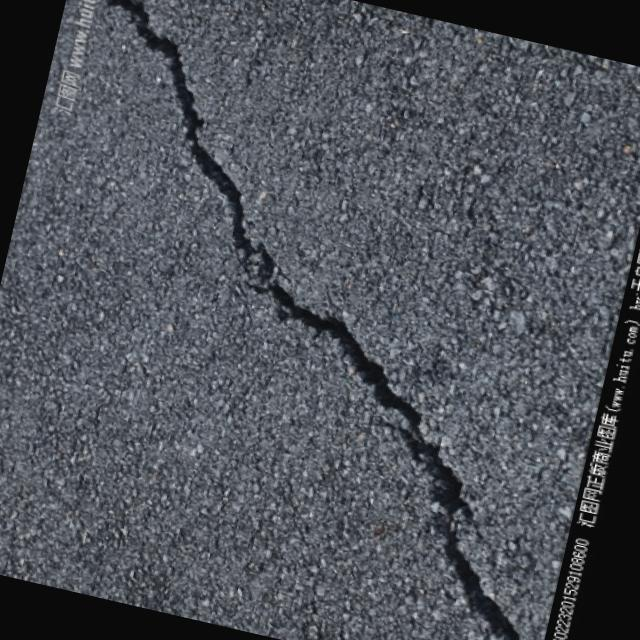crack: (7, 0, 425, 332), (257, 326, 602, 640)
